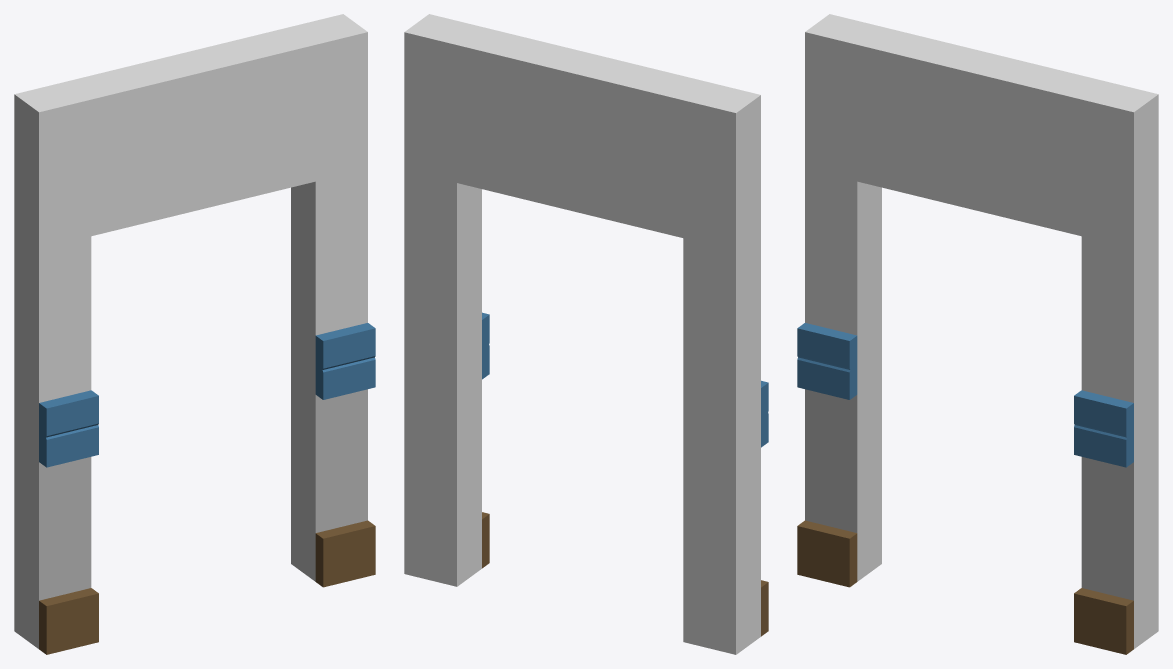
File: H_Wall_Door_Office.fbx
The picture shows the model from 3 angles, left to right: view 1: azimuth 30°, elevation 25°; view 2: azimuth 150°, elevation 25°; view 3: azimuth 330°, elevation 25°; orthographic projection.
Parts seen in each view (by area): view 1: H_Wall_Door_Office; view 2: H_Wall_Door_Office; view 3: H_Wall_Door_Office.
Boxes of the visible parts, x1,y1,x2,y2 form: H_Wall_Door_Office: (14,14,375,654); H_Wall_Door_Office: (404,14,768,654); H_Wall_Door_Office: (797,14,1158,654).
Bounding box in the file's own units: 1000 × 170 × 1560.
